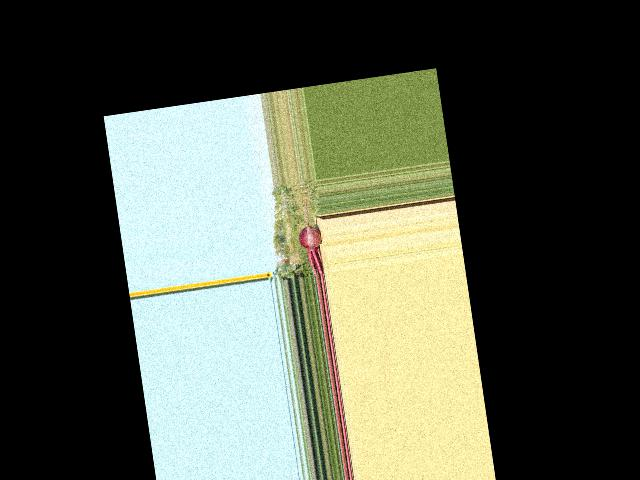beet: (291, 183, 327, 278)
